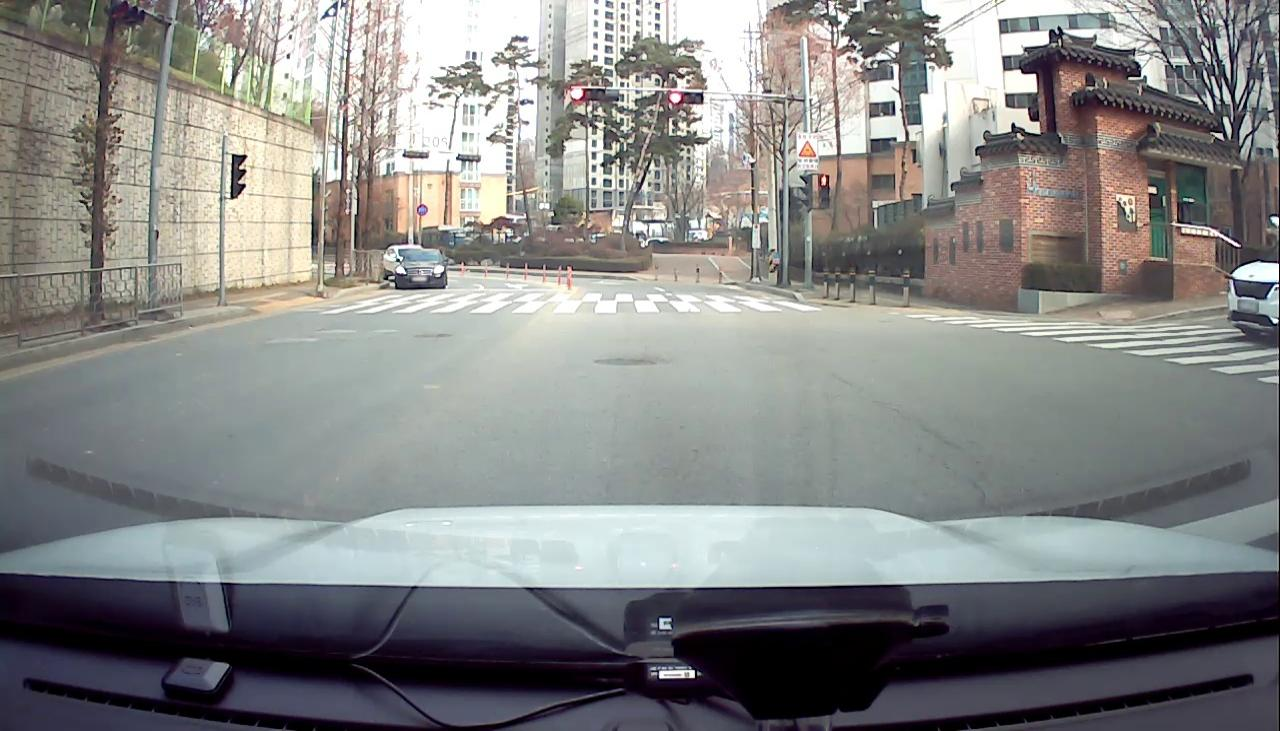Red Light: (571, 86, 584, 101), (668, 92, 682, 104)
